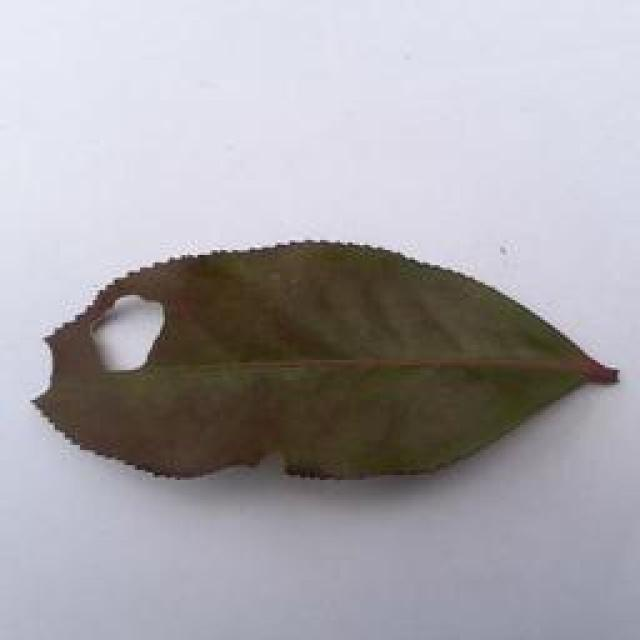Red Leaf Spot: (29, 228, 636, 494)
